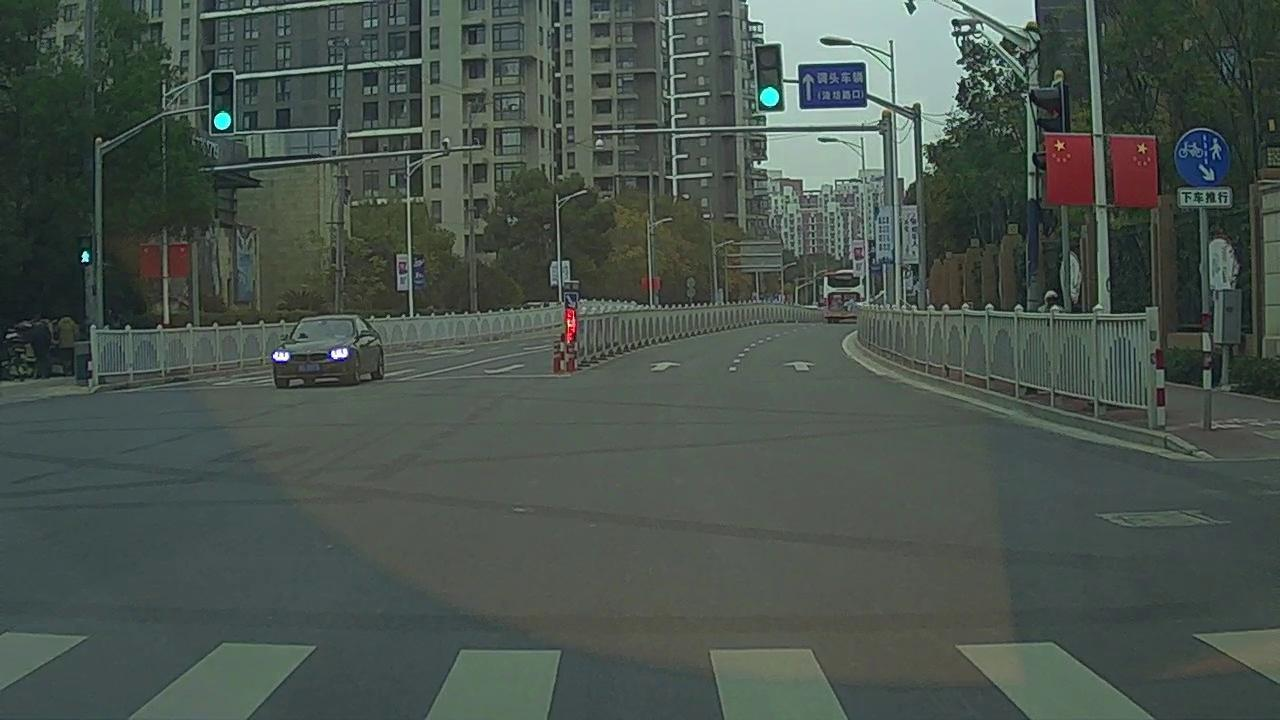traffic_light: (757, 45, 783, 111), (212, 71, 238, 134)
